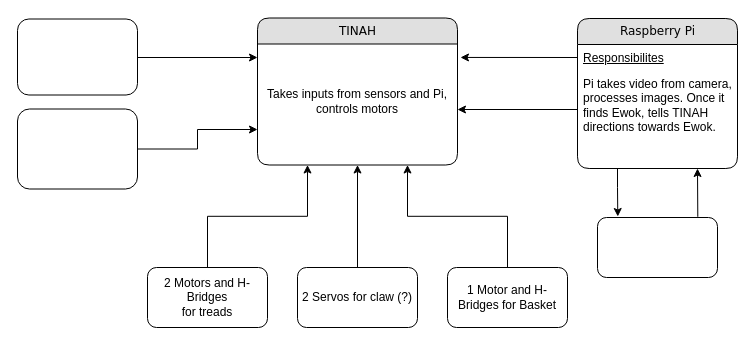
Some shapes in this 755 by 345 pixel diagram are drawn without their labels. Each missing label, with the centre of its shape:
"IR Sensor (1 IR Transistor, 1 Filter / Amplification Circuit)" belongs at (77,56).
"Pi Camera" belongs at (657,247).
"Tape Follower Sensors (2 QRD)" belongs at (77,148).
